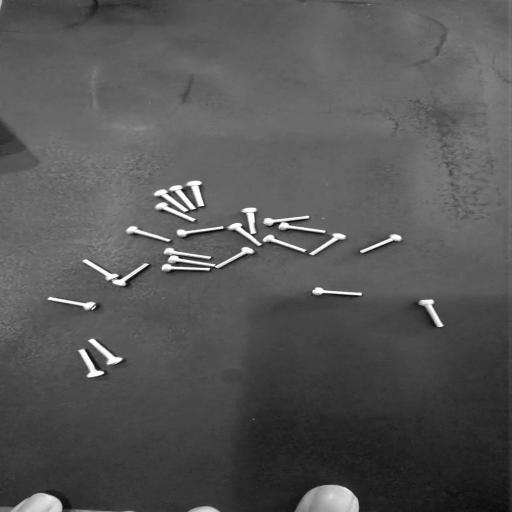Bolt: (88, 339, 123, 365), (216, 247, 255, 268), (112, 264, 149, 286), (227, 223, 261, 246), (155, 203, 196, 222), (360, 235, 402, 253), (83, 260, 119, 281), (310, 234, 346, 255), (154, 190, 188, 212), (263, 235, 306, 252), (78, 349, 104, 377), (126, 226, 170, 242), (418, 300, 443, 327), (48, 297, 98, 310), (169, 186, 196, 210), (168, 255, 215, 267), (164, 248, 211, 259), (177, 227, 224, 237), (279, 223, 326, 233), (186, 181, 204, 207), (263, 216, 309, 226), (241, 208, 257, 234), (312, 288, 362, 296), (162, 264, 210, 272)
